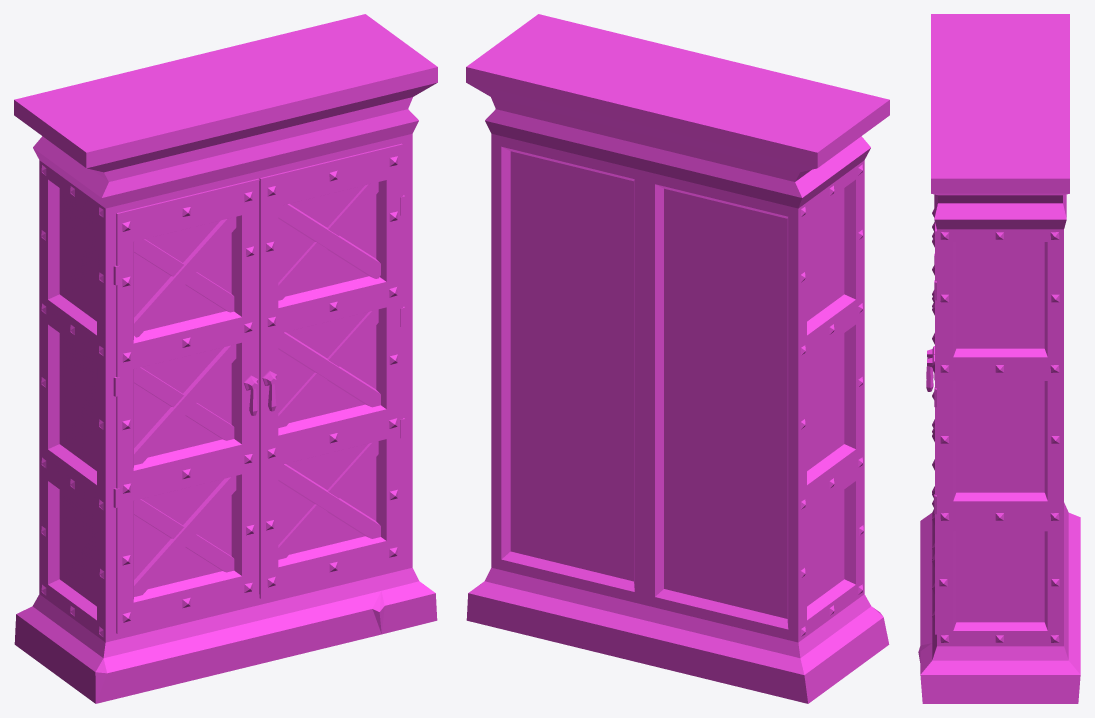
Rendered from SM_Closet_Fancy_C_Fantasy.fbx.
The picture shows the model from 3 angles, left to right: view 1: azimuth 30°, elevation 25°; view 2: azimuth 150°, elevation 25°; view 3: azimuth 270°, elevation 25°; orthographic projection. The views are drawn at different scales.
Visible parts, largest first — view 1: SM_Closet_Fancy_C_Fantasy_Base, SM_Closet_Fancy_C_Fantasy_Door_L, SM_Closet_Fancy_C_Fantasy_Door_R; view 2: SM_Closet_Fancy_C_Fantasy_Base; view 3: SM_Closet_Fancy_C_Fantasy_Base, SM_Closet_Fancy_C_Fantasy_Door_R, SM_Closet_Fancy_C_Fantasy_Door_L.
Part boxes in pixels (box(x1,y1,x2,y2)): SM_Closet_Fancy_C_Fantasy_Base: box(14, 14, 437, 703); SM_Closet_Fancy_C_Fantasy_Door_L: box(113, 178, 259, 633); SM_Closet_Fancy_C_Fantasy_Door_R: box(259, 143, 404, 598); SM_Closet_Fancy_C_Fantasy_Base: box(466, 14, 889, 703); SM_Closet_Fancy_C_Fantasy_Base: box(918, 14, 1080, 703); SM_Closet_Fancy_C_Fantasy_Door_R: box(926, 209, 936, 634); SM_Closet_Fancy_C_Fantasy_Door_L: box(926, 222, 934, 553).
Size of the model in its own units: 1.68 by 2.5 by 0.6975.
